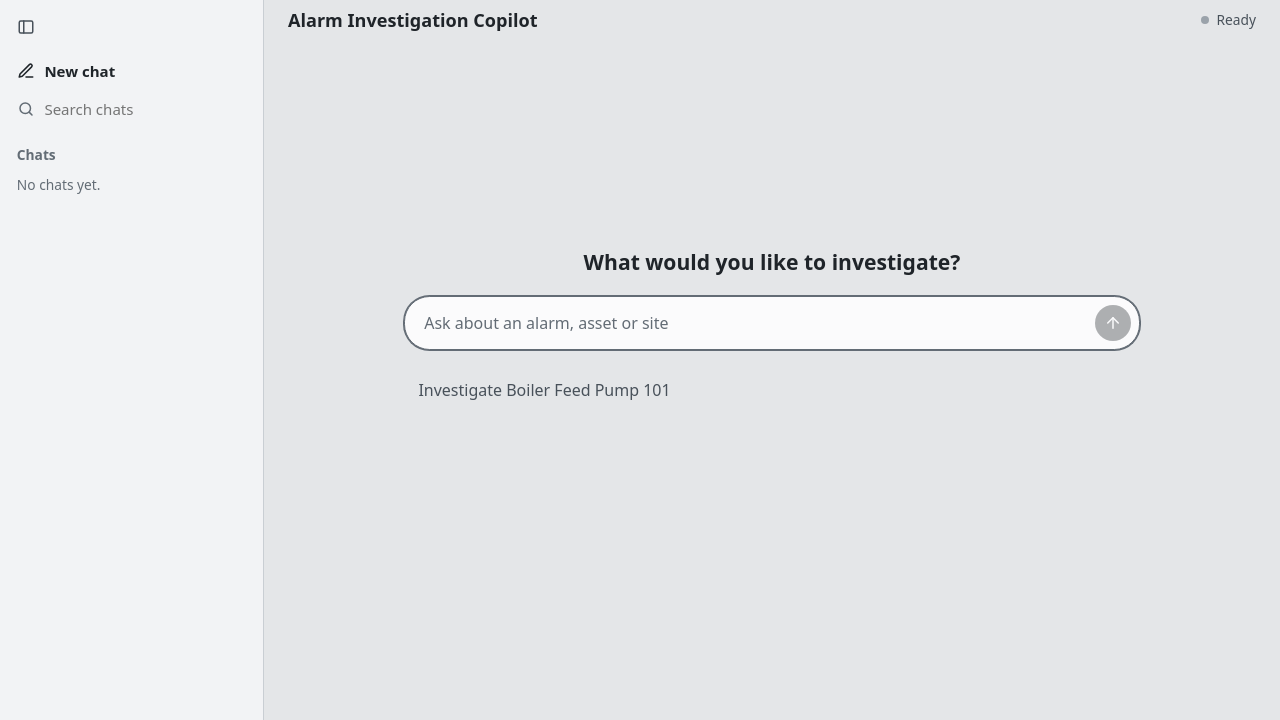
Test: a failed request explains itself and can be retried
The width and height of the screenshot is (1280, 720).
In the text box named "Question": (750, 323) [415,303,1086,343], type "Investigate Boiler Feed Pump 101"
Then press Enter
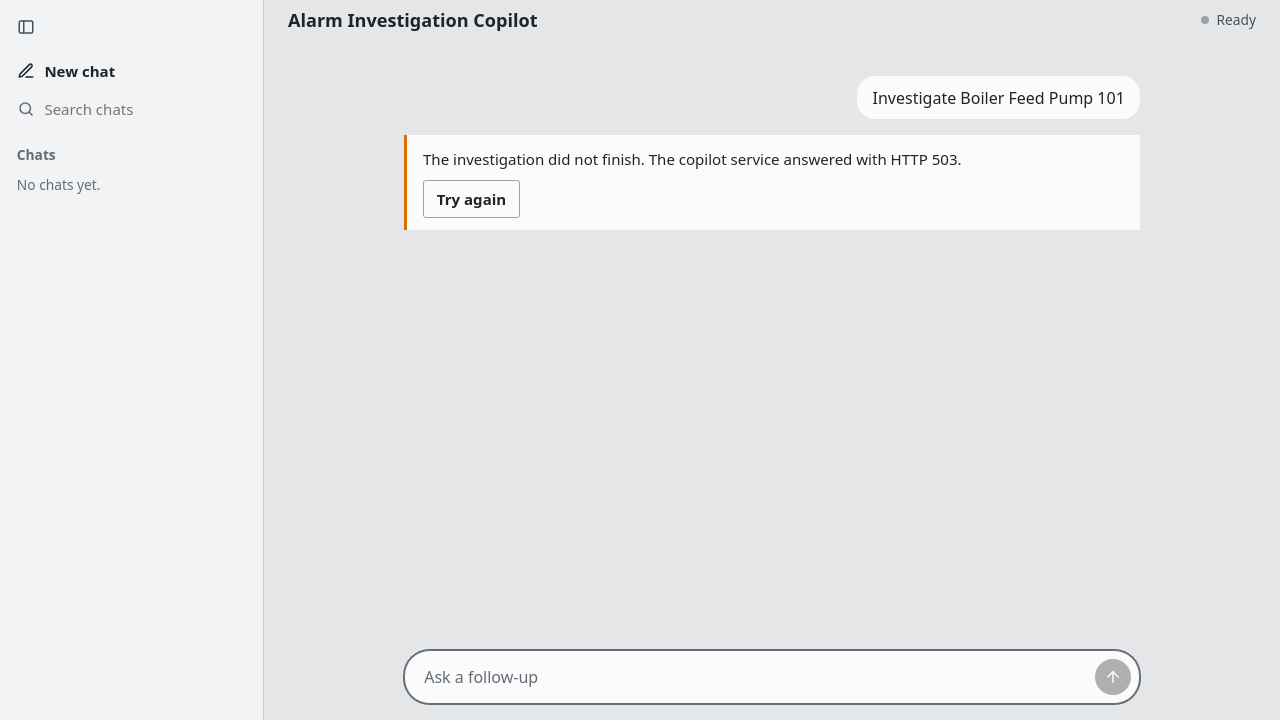
Check: the message shows "HTTP 503", box [649,149,962,169]
Click the button "Try again": (472, 199) [423,180,520,218]
(page scrolled)
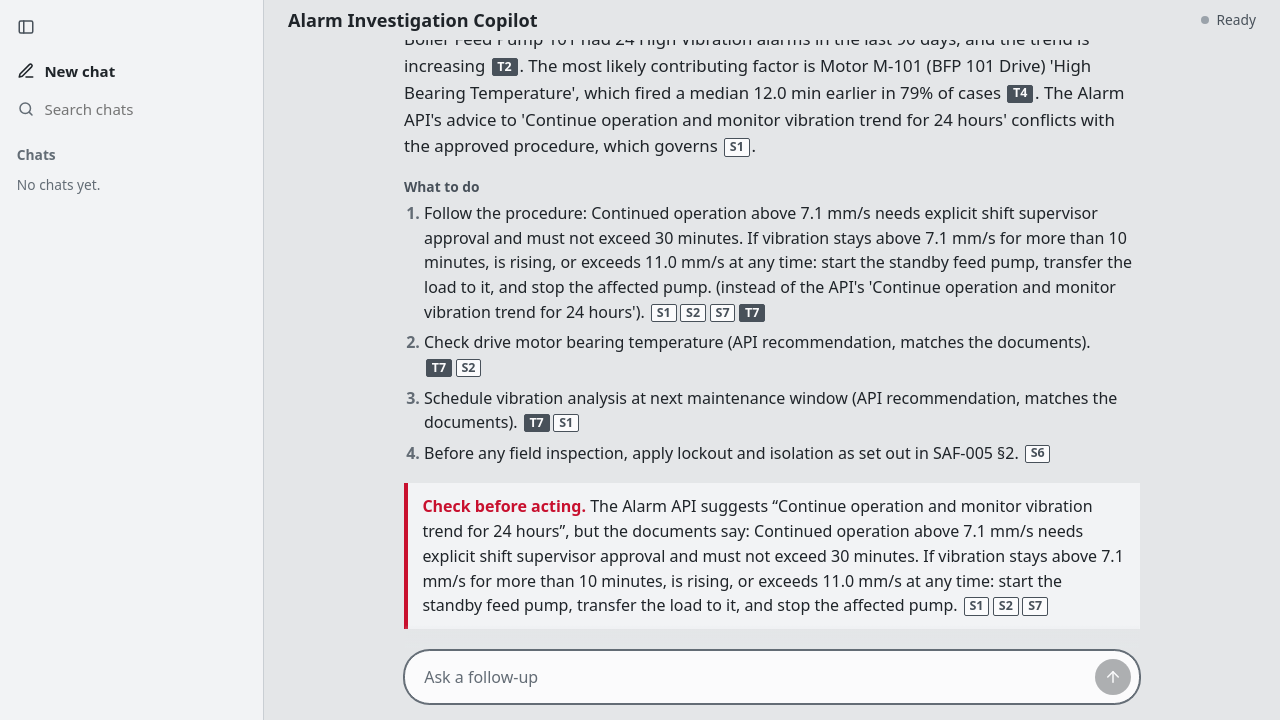
Check: the element named "Answer" is shown, box [404,40,1140,646]
